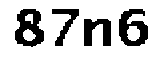6: (112, 4, 151, 52)
7: (49, 6, 81, 50)
8: (13, 6, 47, 53)
n: (82, 14, 113, 50)
